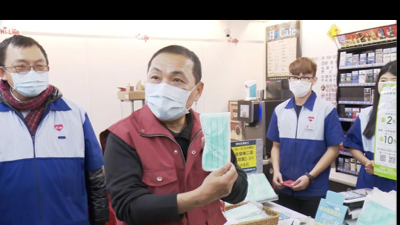with_mask: (143, 66, 193, 122), (8, 56, 50, 98), (288, 74, 311, 99), (377, 75, 396, 96)
